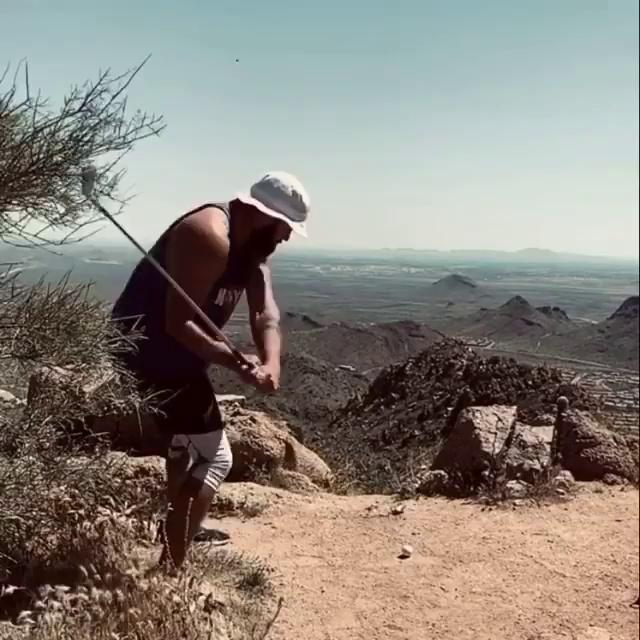golf ball: (401, 545, 412, 556)
golf club-handle: (81, 164, 254, 371)
golf club-head: (81, 164, 95, 193)
